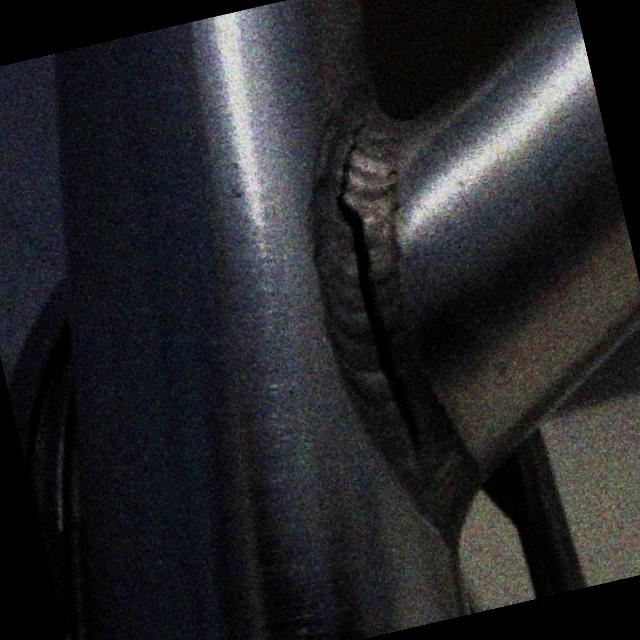crack: (339, 198, 425, 465), (326, 132, 370, 200)
